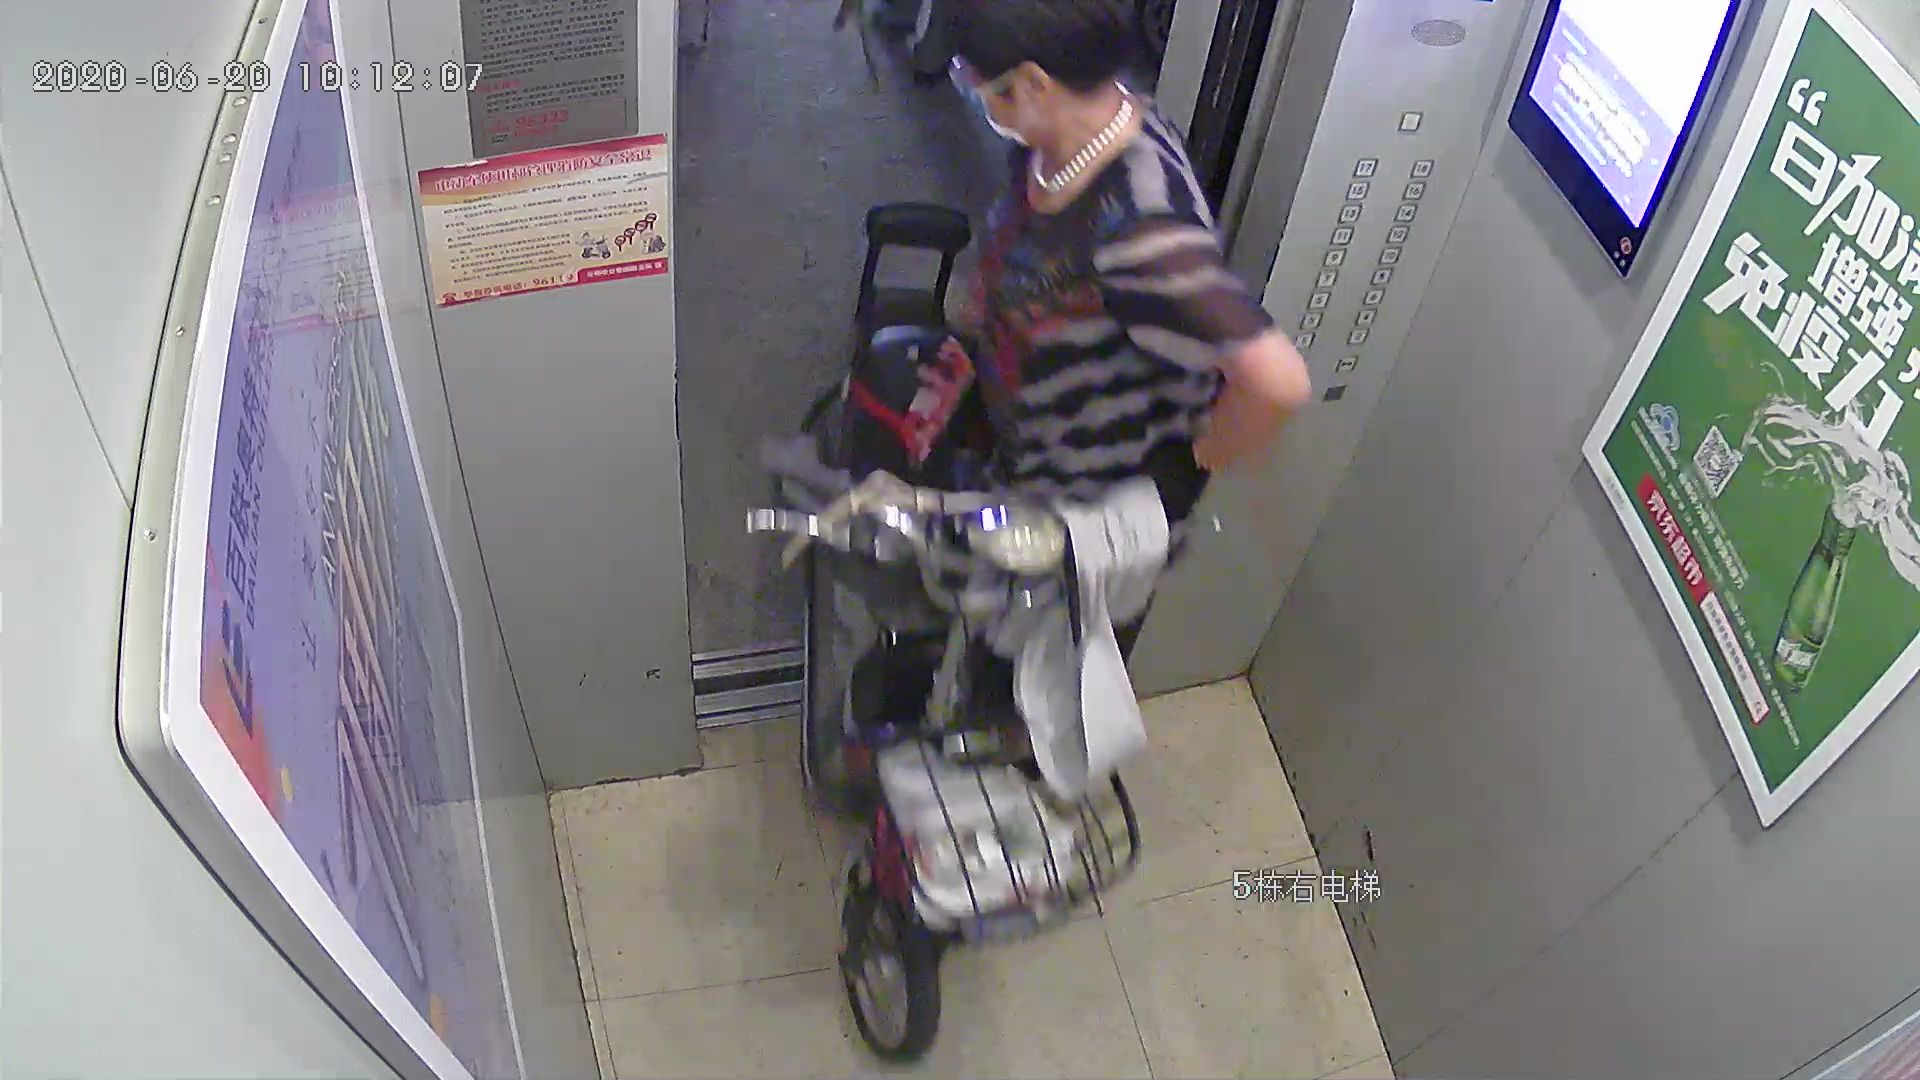Electric-bicycle: (750, 204, 1199, 1058)
